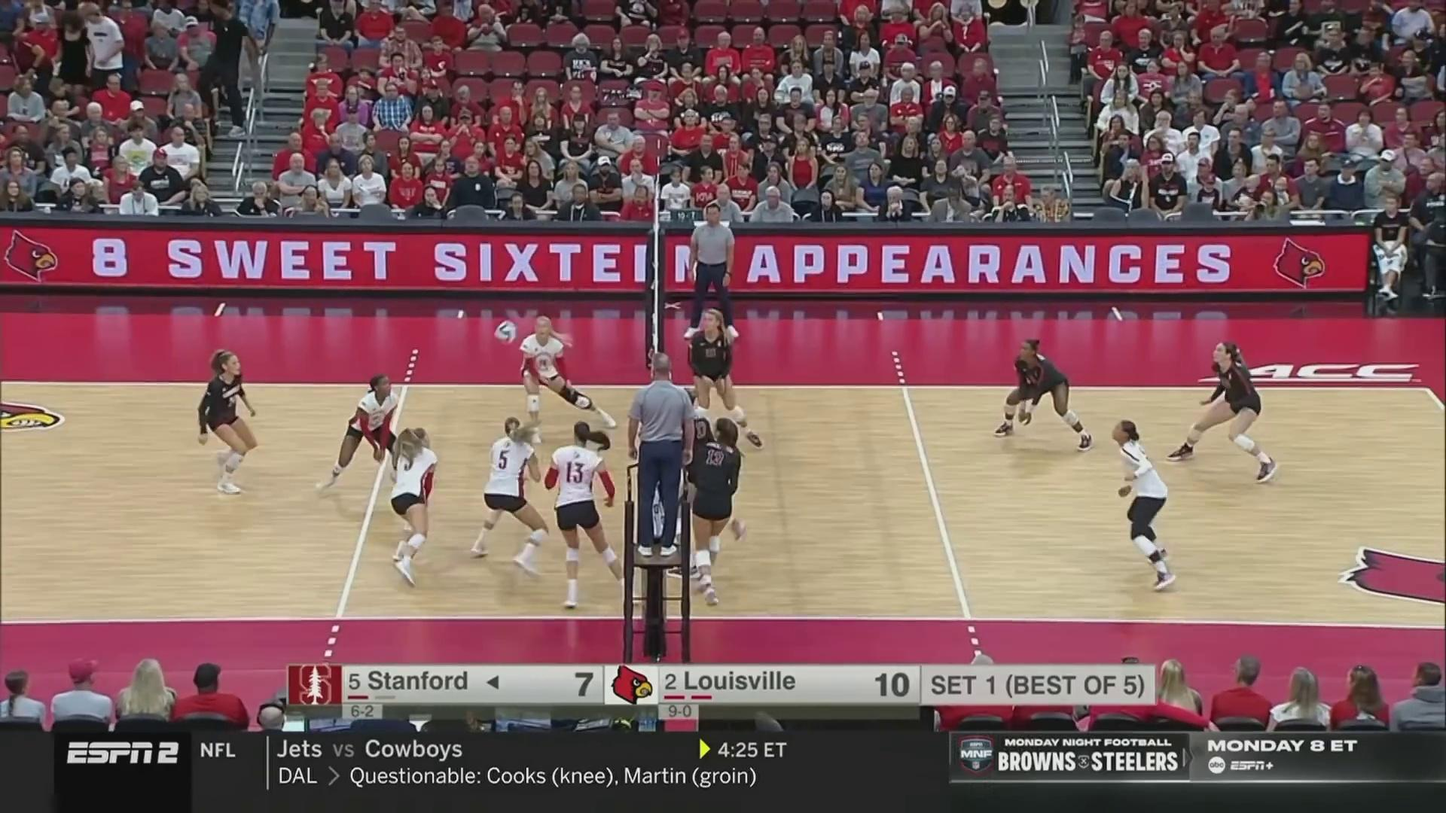player: (545, 422, 635, 608), (1168, 343, 1278, 480), (316, 375, 423, 500), (687, 396, 763, 561), (518, 316, 620, 438), (472, 415, 546, 583), (1113, 420, 1179, 588), (687, 309, 764, 447), (1000, 339, 1093, 450), (199, 353, 259, 497), (392, 429, 436, 583)
refree: (628, 350, 694, 554), (685, 203, 739, 339)
